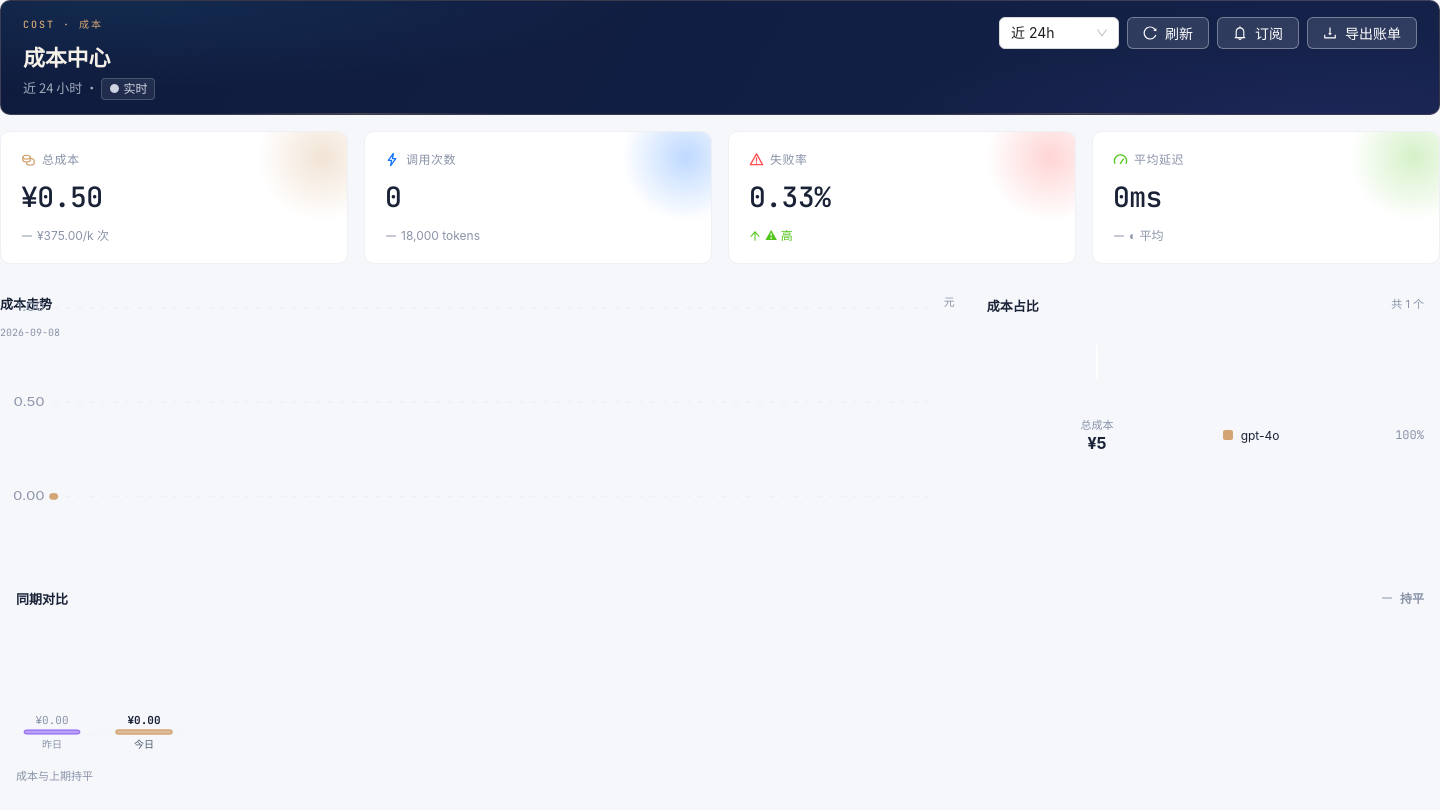
Test: CostCenter — 定时报表订阅 + URL 状态同步 › 打开 Dialog：点 CostCenter "订阅" 按钮
Expected: the text "成本中心" is shown, [23,40,110,72]
What coordinates should you click on to do the following:
click the button with test id "cost-subscribe-btn"
I would click on:
 (1258, 33)
Its box is [1217,17,1299,49].
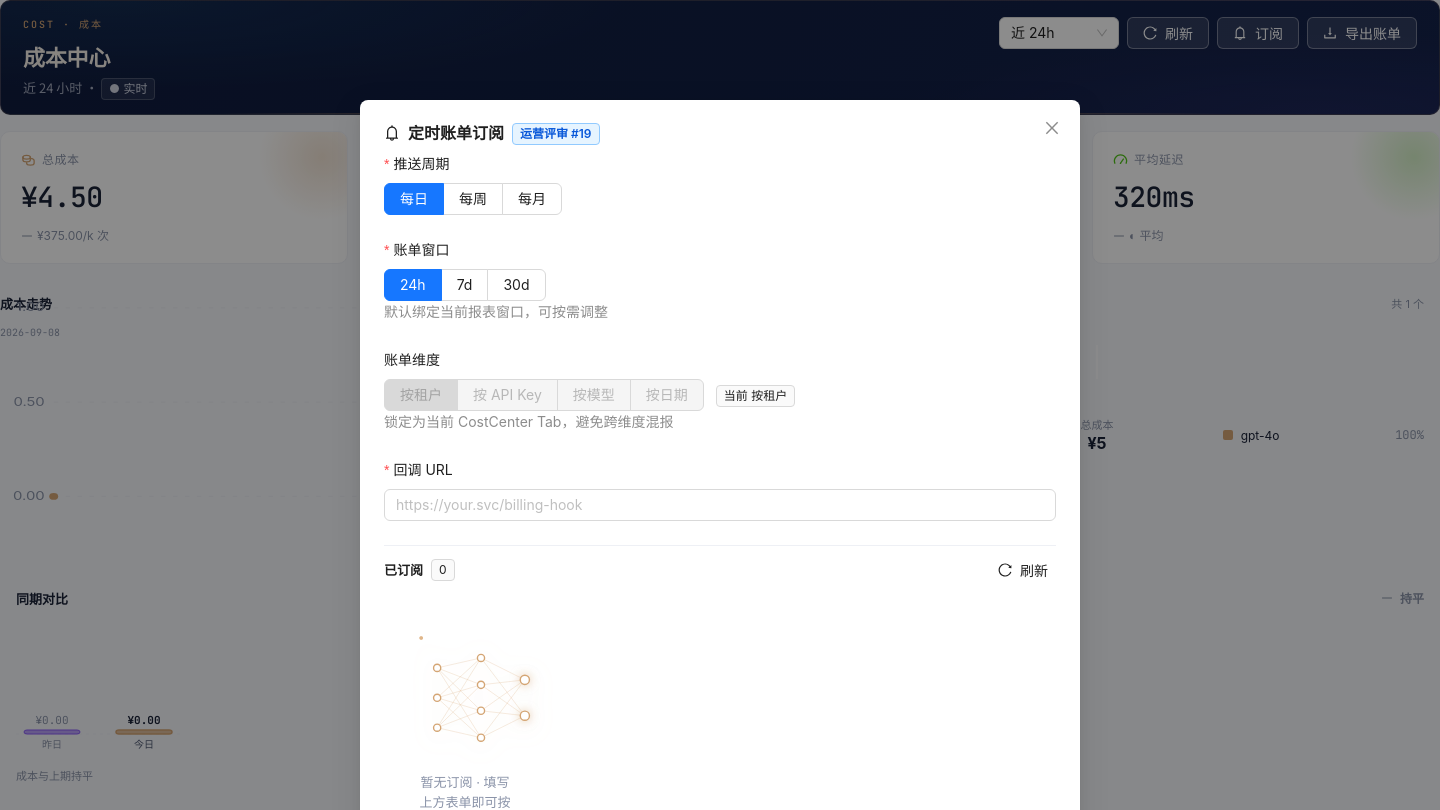
Now the text "定时账单订阅" is shown, box [408,122,504,142]
Now the text "推送周期" is shown, box [384,153,464,175]
Now the text "账单窗口" is shown, box [384,239,464,261]
